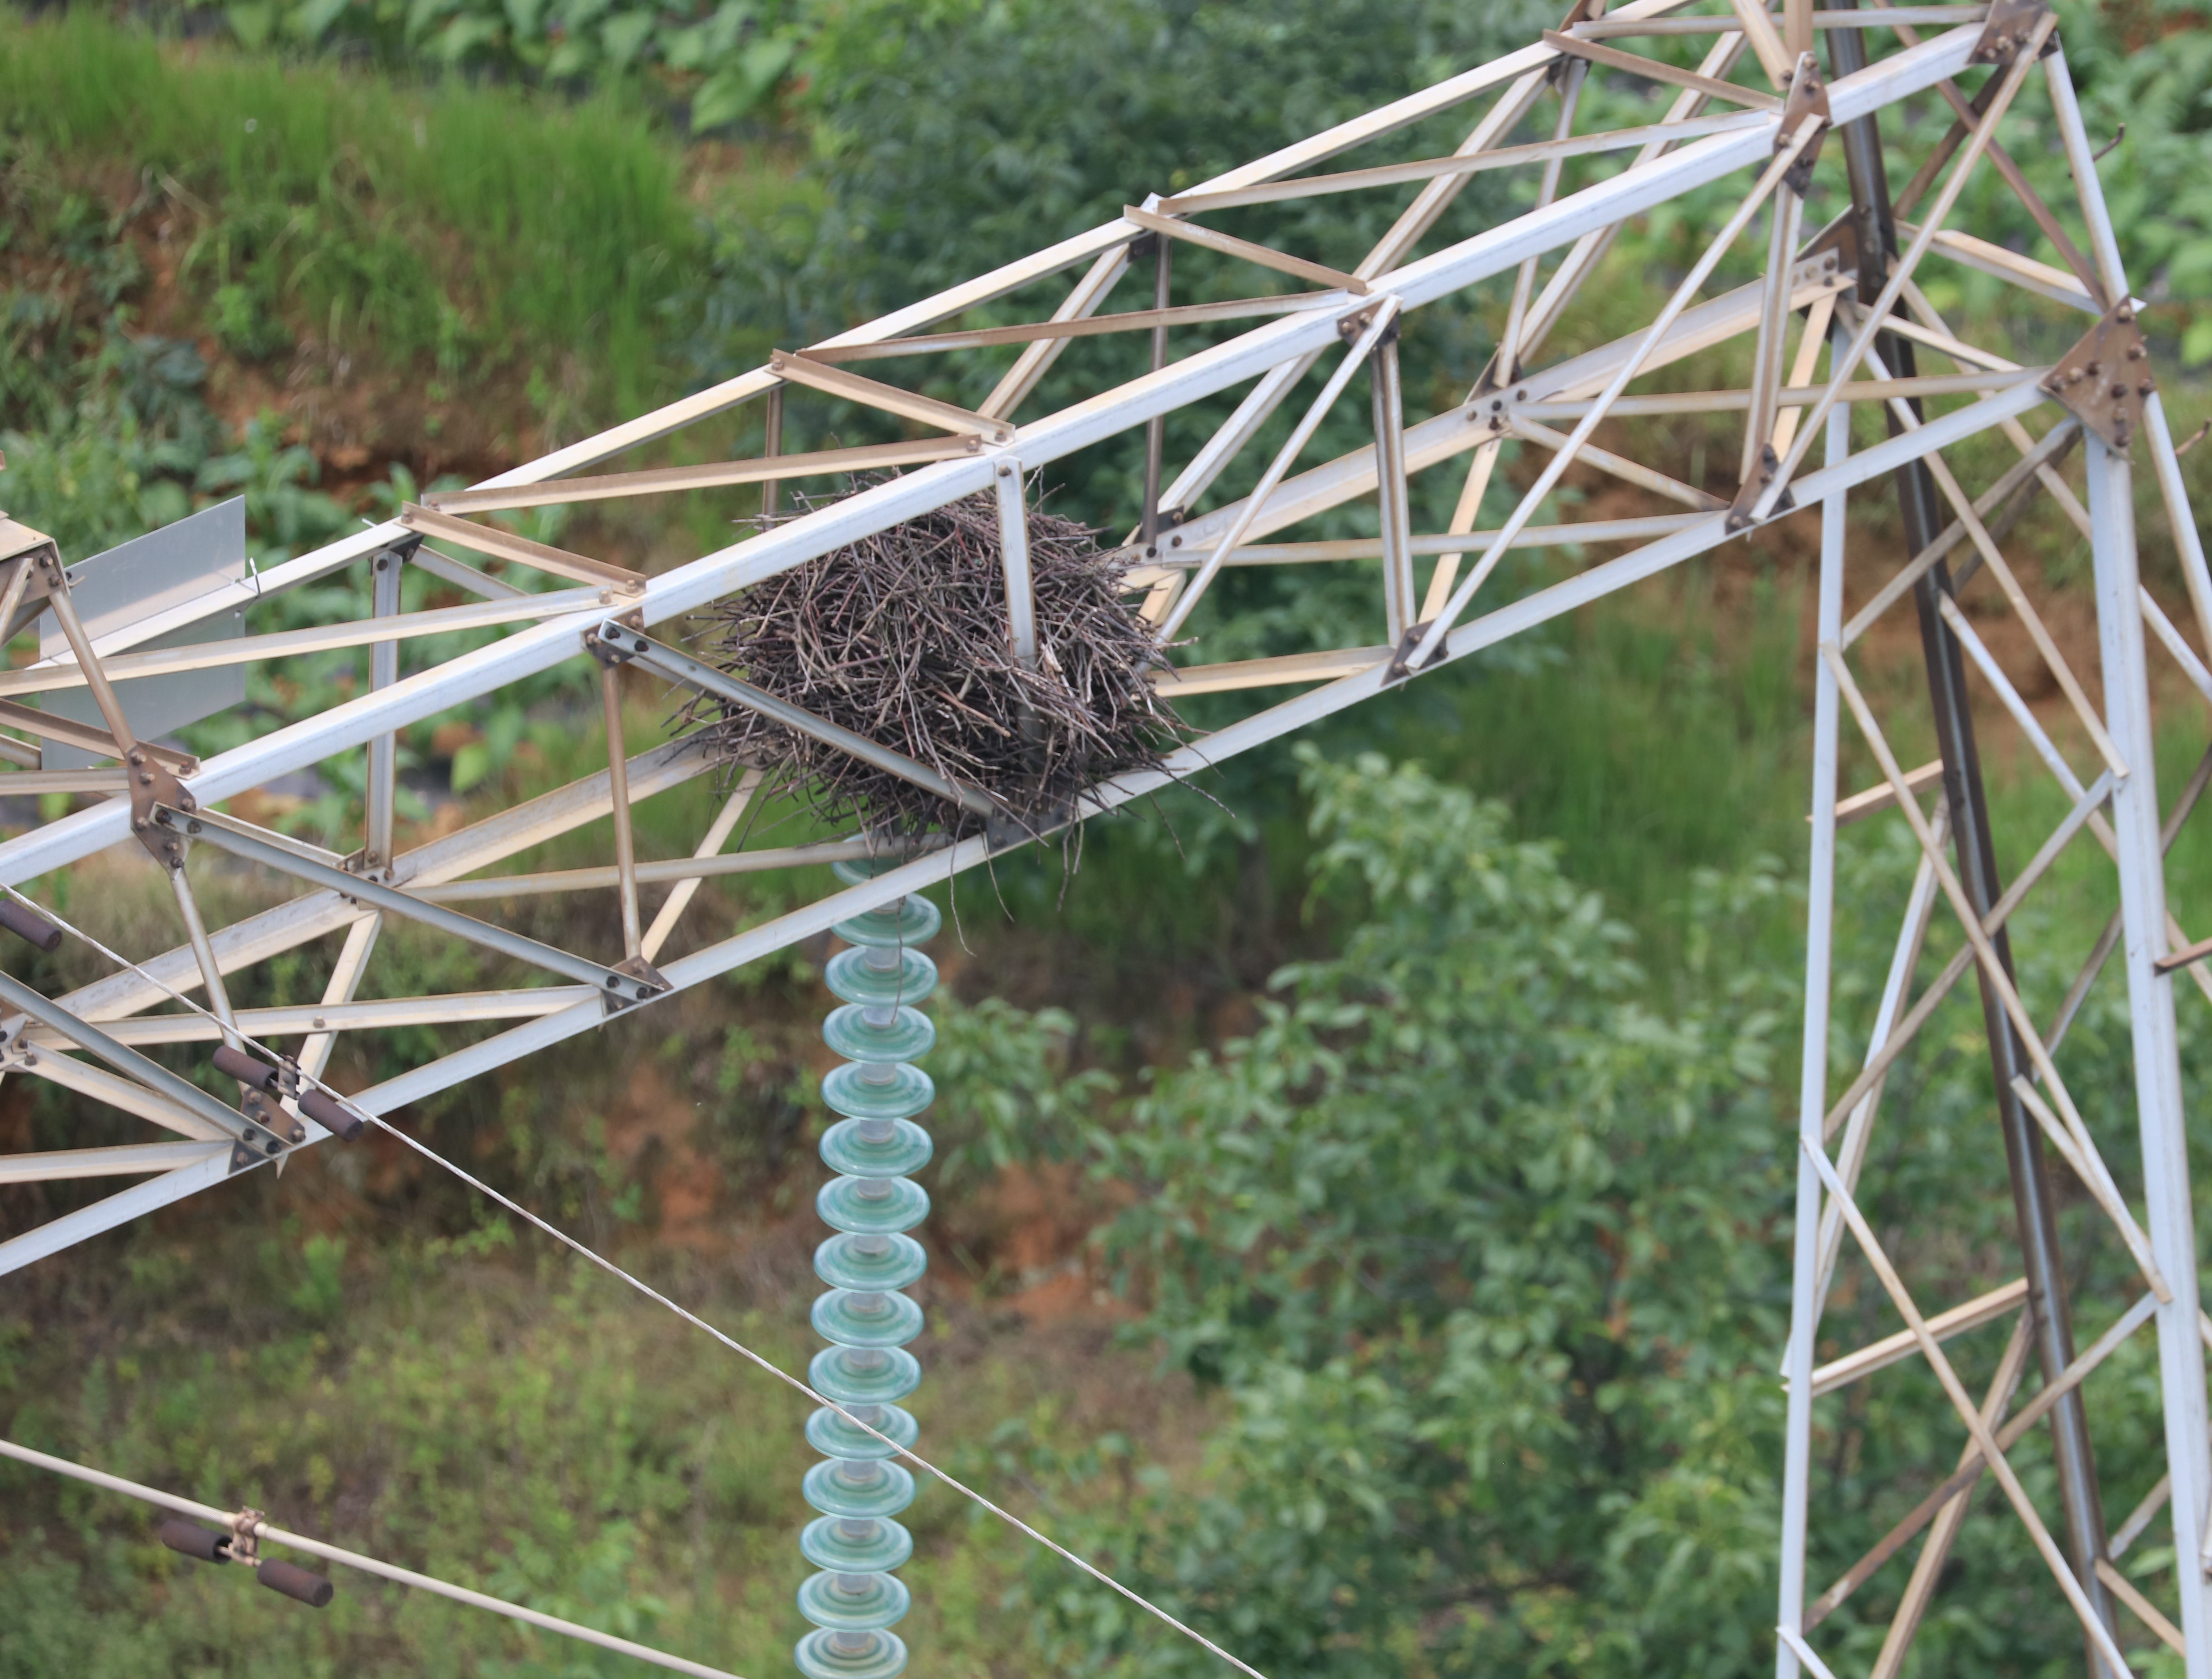niaowo: (730, 467, 1204, 845)
